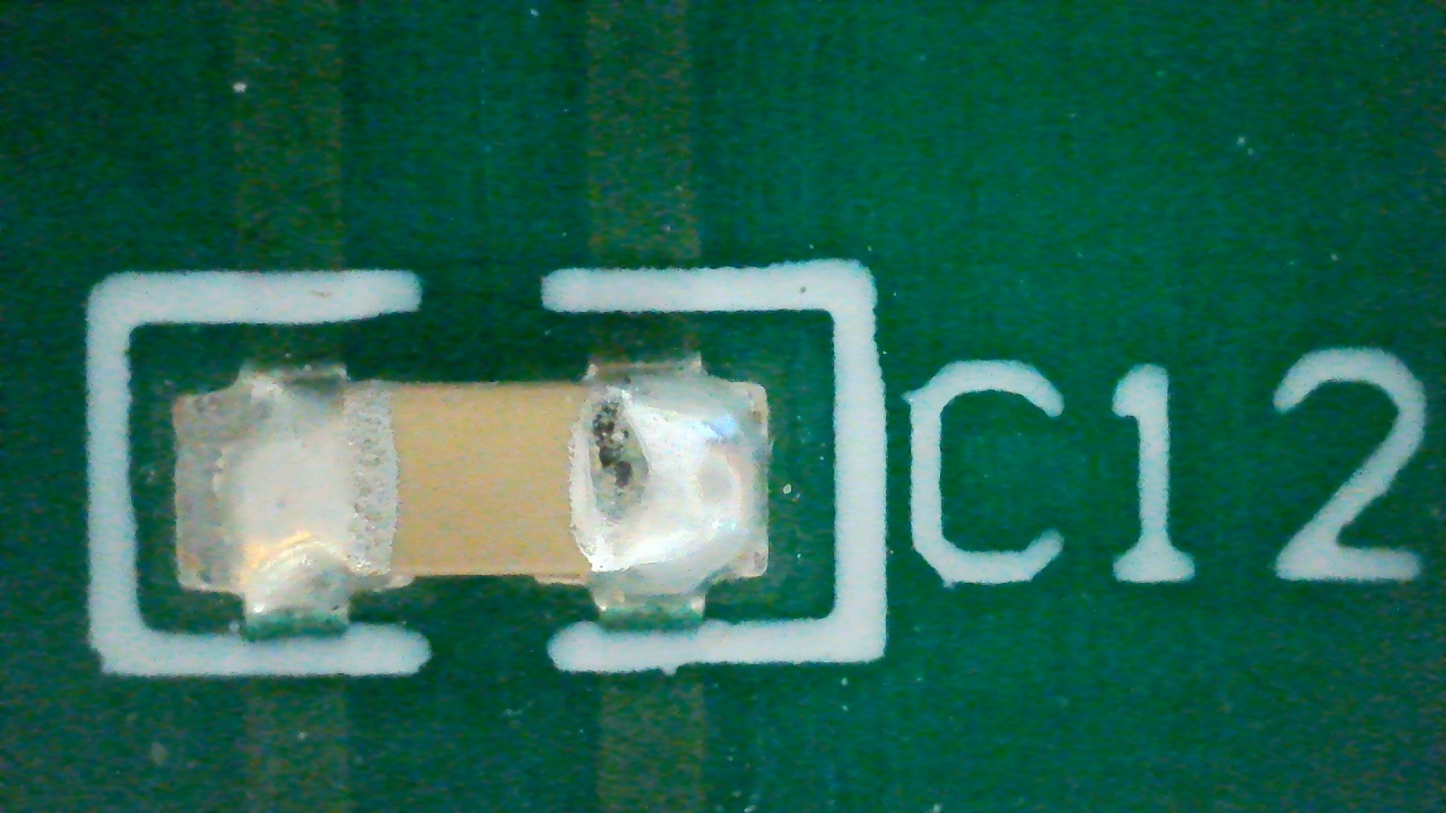OK: (179, 351, 768, 628)
